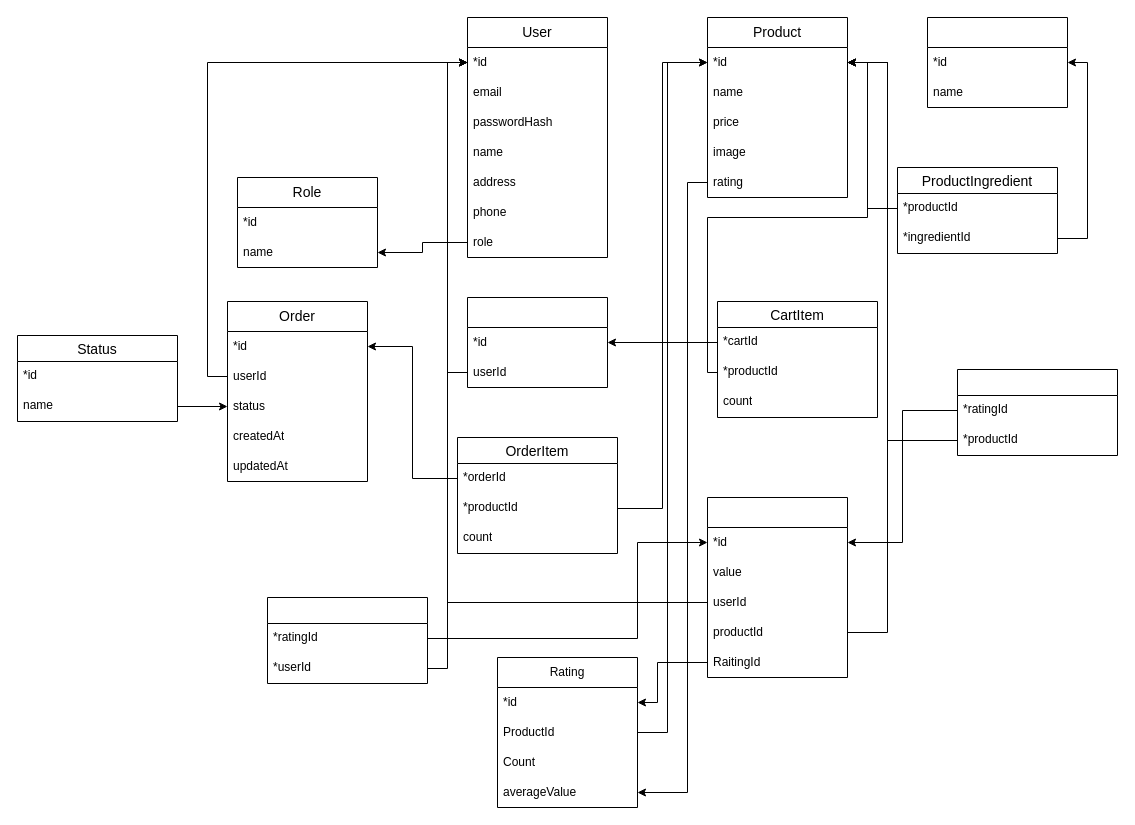
The diagram is 1135 pixels wide and 825 high, and some of its shapes have lost their labels. Each missing label, with the box of its shape:
Cart: (466, 296, 608, 388)
FeedBack: (706, 496, 848, 678)
Ingredient: (926, 16, 1068, 108)
ProductR: (956, 368, 1118, 456)
UserR: (266, 596, 428, 684)
